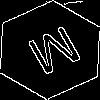M: (25, 25, 89, 85)
